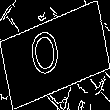O_S: (36, 24, 74, 86)
